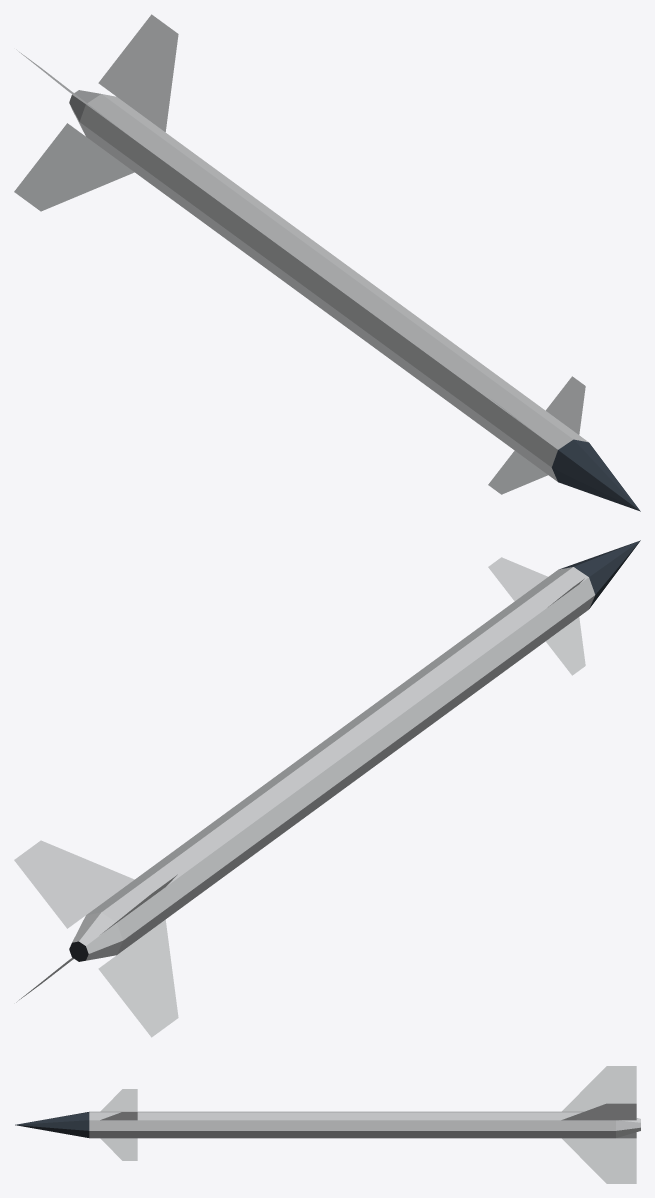
The model's file is missile_ir_small.glb.
3 renders of one model, top to bottom at view 1: azimuth 30°, elevation 25°; view 2: azimuth 150°, elevation 25°; view 3: azimuth 270°, elevation 25°, orthographic. The views are drawn at different scales.
Parts seen in each view (by area): view 1: missile_ir_small; view 2: missile_ir_small; view 3: missile_ir_small.
Boxes of the visible parts, x1,y1,x2,y2 form: missile_ir_small: (14,14,640,511); missile_ir_small: (14,540,640,1037); missile_ir_small: (15,1066,640,1183).
Bounding box in the file's own units: 0.4099 × 0.4099 × 2.9.
